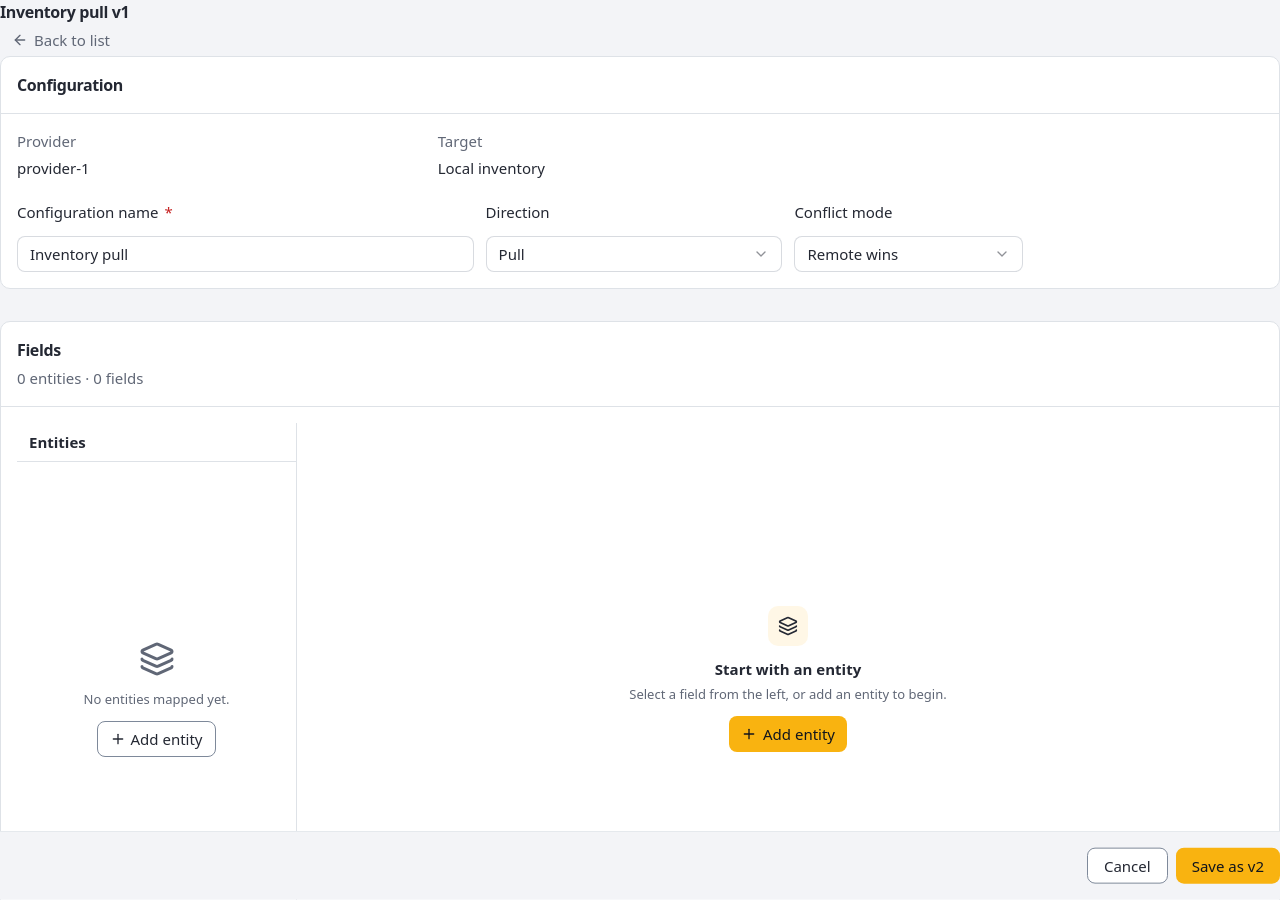
Test: SyncMappingEditor workbench › clears a discarded draft even when history returns to the same authoring identity
Replace the text in the field labelled "Configuration name *" with "Discard this draft" at point(245, 254), box x1=17 y1=236 x2=474 y2=272
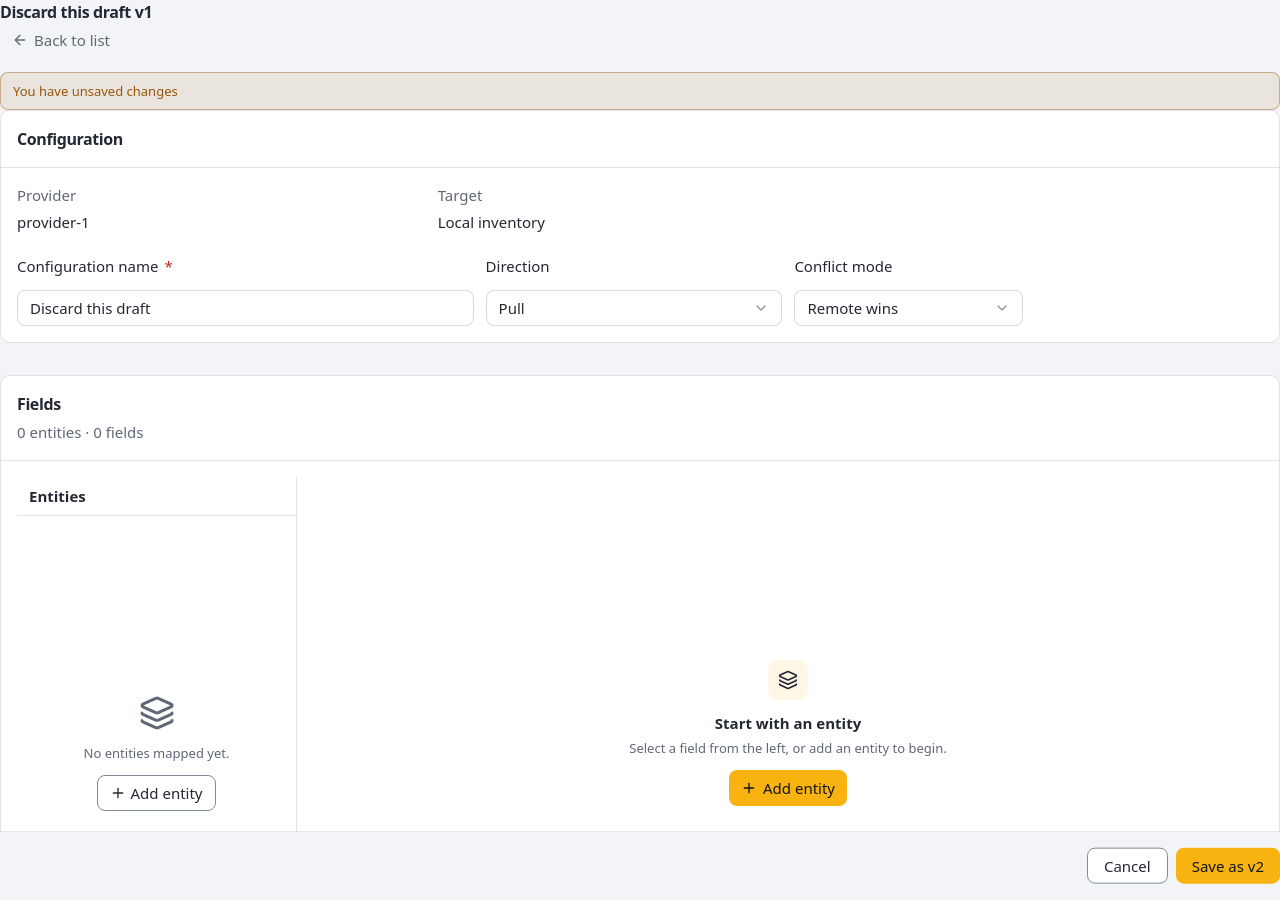
Click the button "Cancel" at point(1127, 866), box x1=1087 y1=848 x2=1168 y2=884
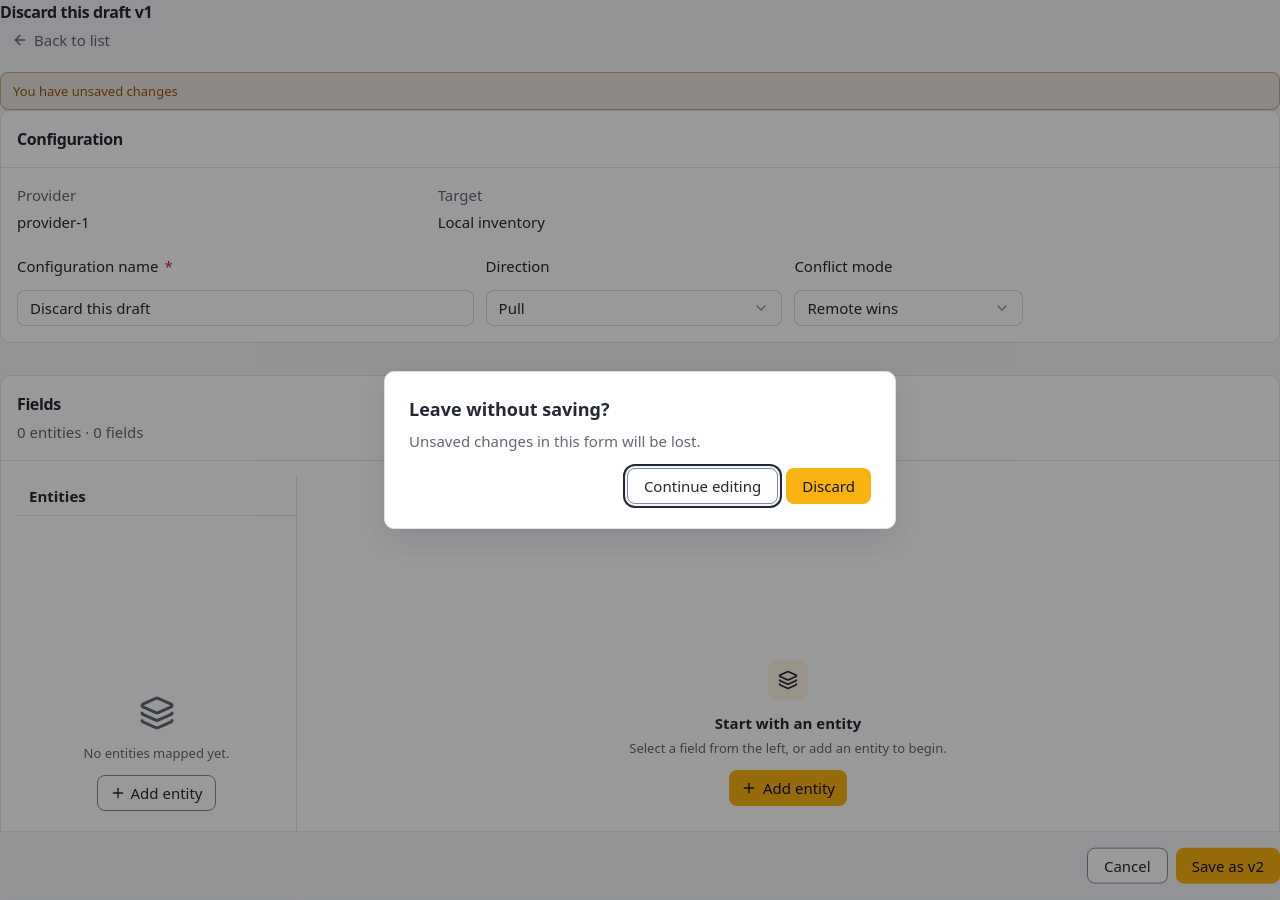
Now the dialog is shown, box x1=384 y1=371 x2=896 y2=529
Click the button "Discard" at point(829, 486), box x1=786 y1=468 x2=871 y2=504
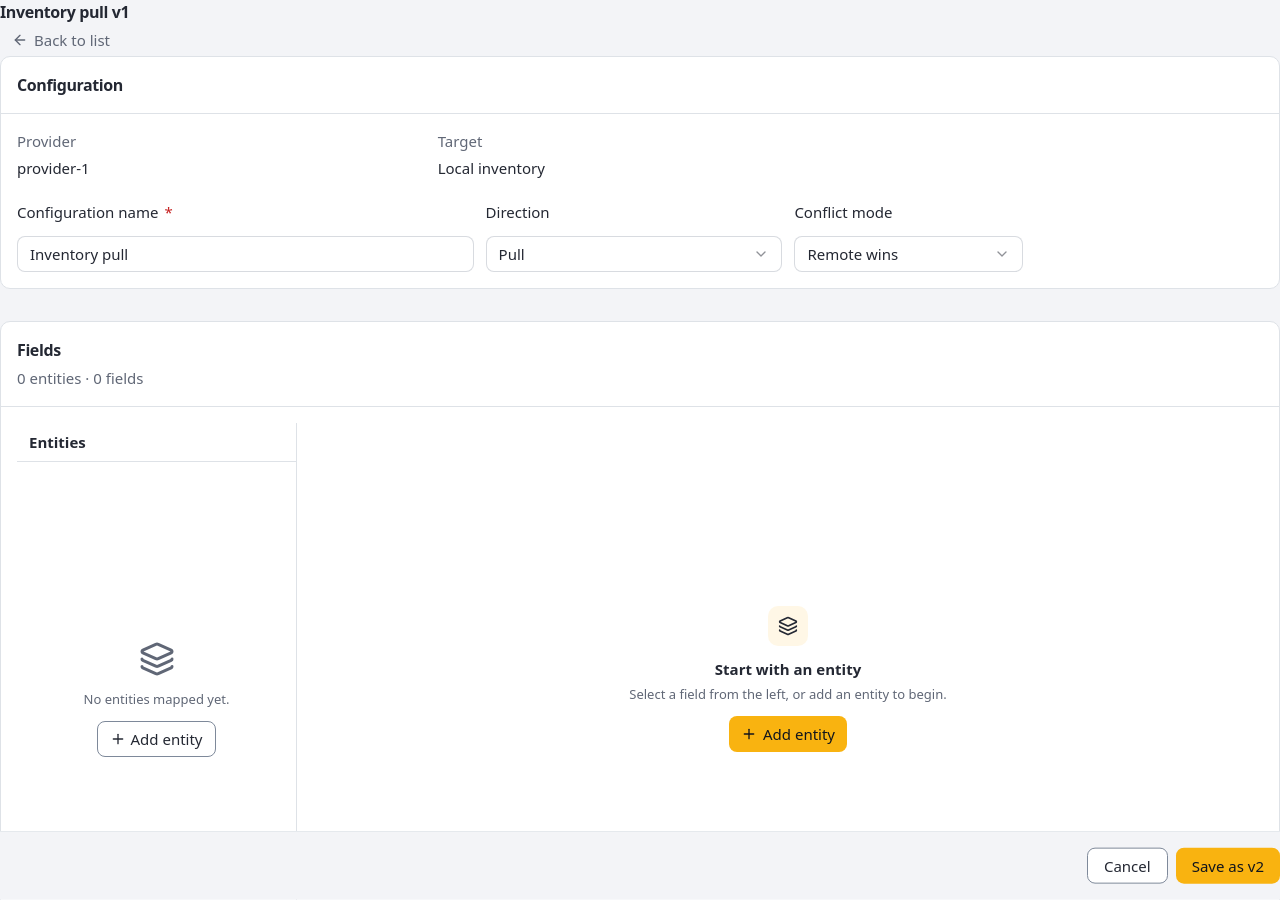
Now the field labelled "Configuration name *" holds "Inventory pull", box x1=17 y1=236 x2=474 y2=272
